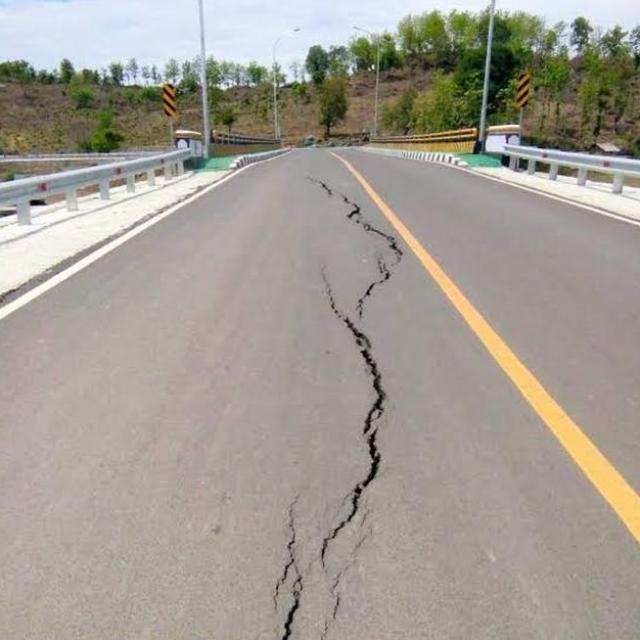Memanjang: (261, 177, 411, 640)
